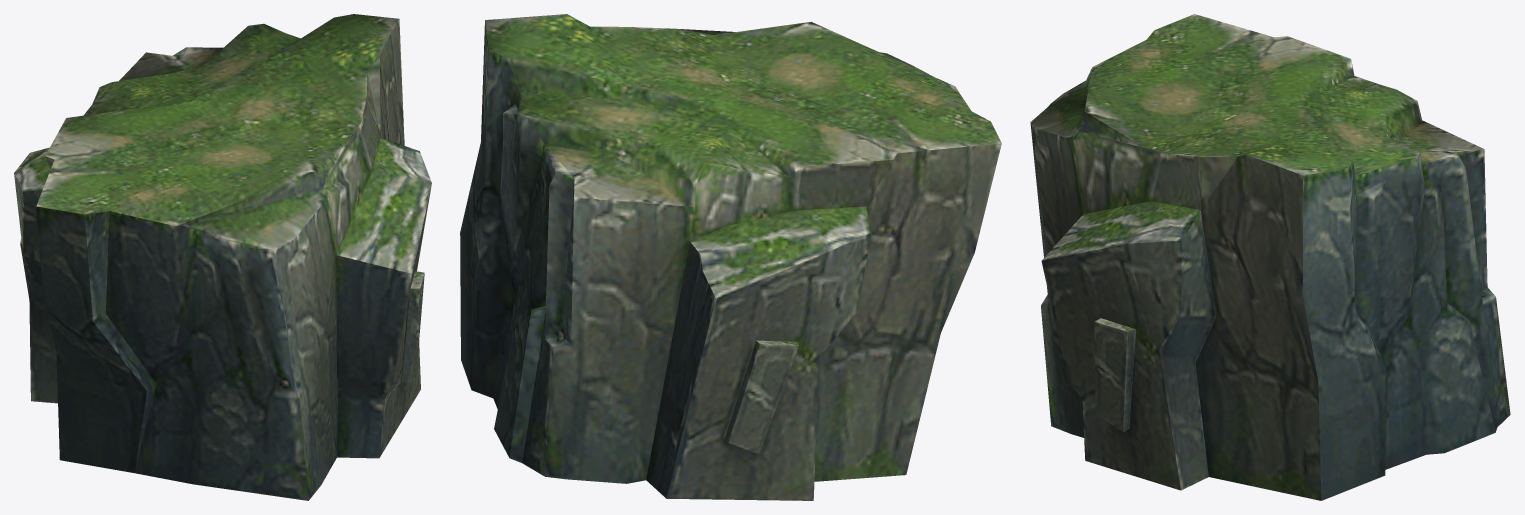
File: 4006_Item_shitou_4.FBX
3 renders of one model, left to right at view 1: azimuth 30°, elevation 25°; view 2: azimuth 150°, elevation 25°; view 3: azimuth 270°, elevation 25°, orthographic. The views are drawn at different scales.
Parts seen in each view (by area): view 1: 4006_Item_shitou_4; view 2: 4006_Item_shitou_4; view 3: 4006_Item_shitou_4.
Part boxes in pixels (x1,y1,x2,y2): 4006_Item_shitou_4: (14,14,431,500); 4006_Item_shitou_4: (460,14,1001,500); 4006_Item_shitou_4: (1030,14,1510,500).
Bounding box in the file's own units: 835 × 770 × 635.
